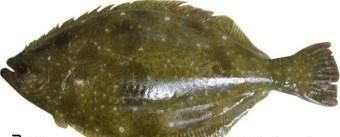fish: (0, 0, 339, 136)
